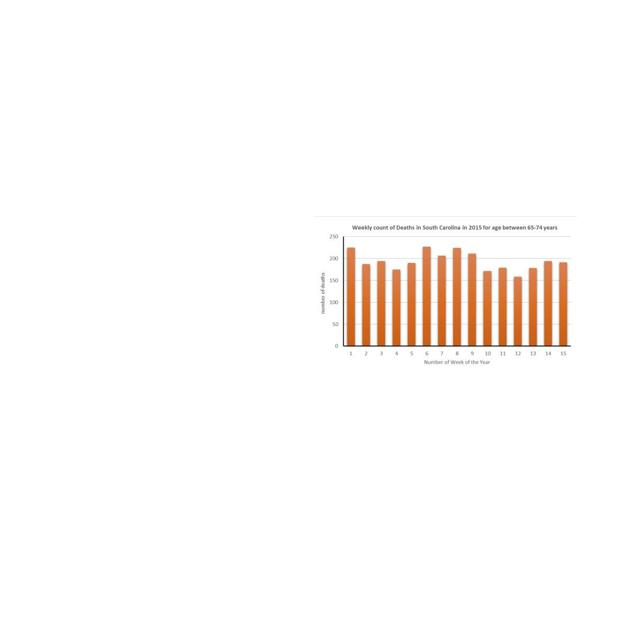Graph: (314, 216, 577, 372)
